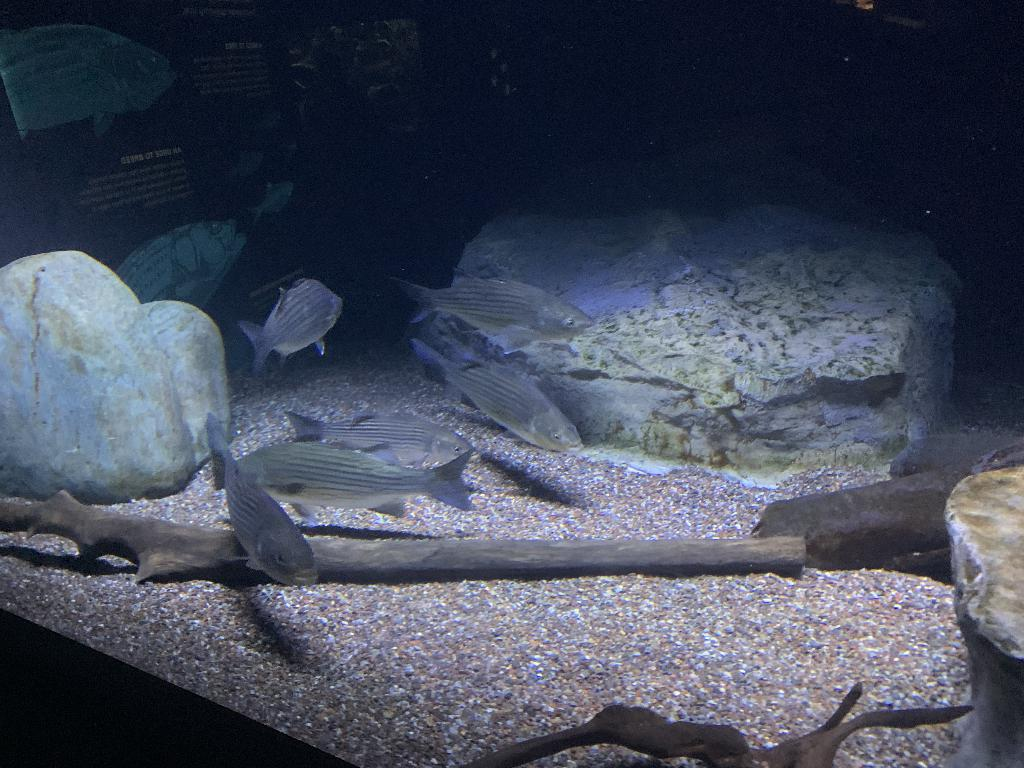fish: (406, 326, 584, 456), (230, 434, 478, 522), (198, 418, 322, 592), (390, 264, 600, 344), (281, 403, 475, 473), (234, 275, 348, 373)
